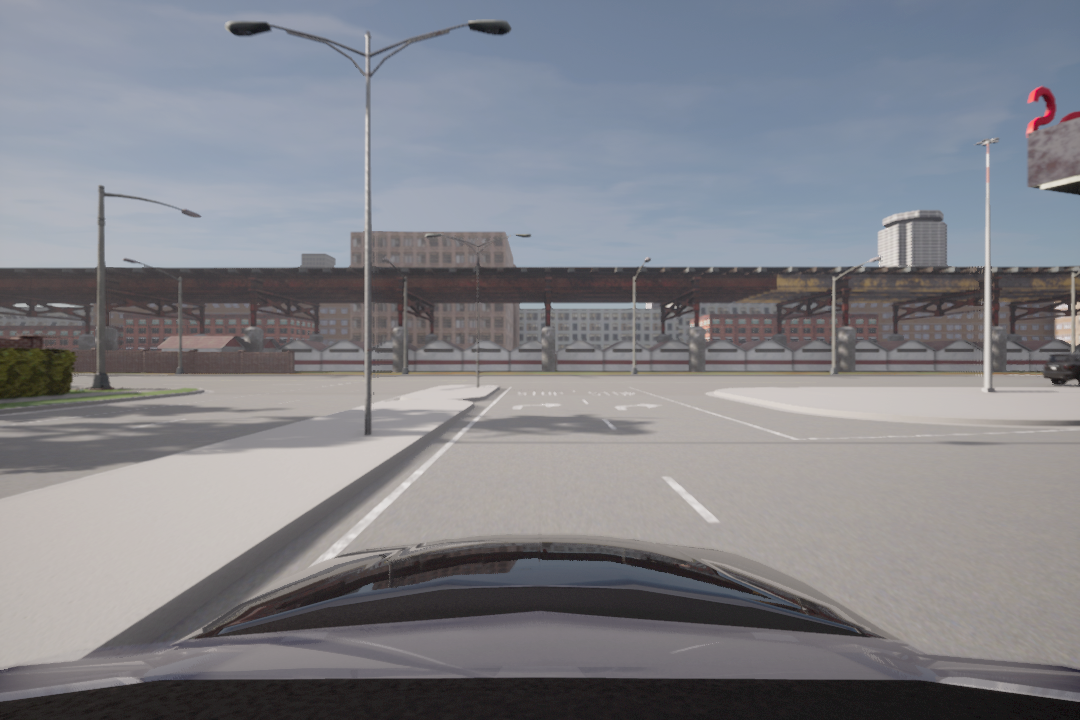RoadSign_right: (605, 401, 661, 417), (510, 400, 559, 414)
